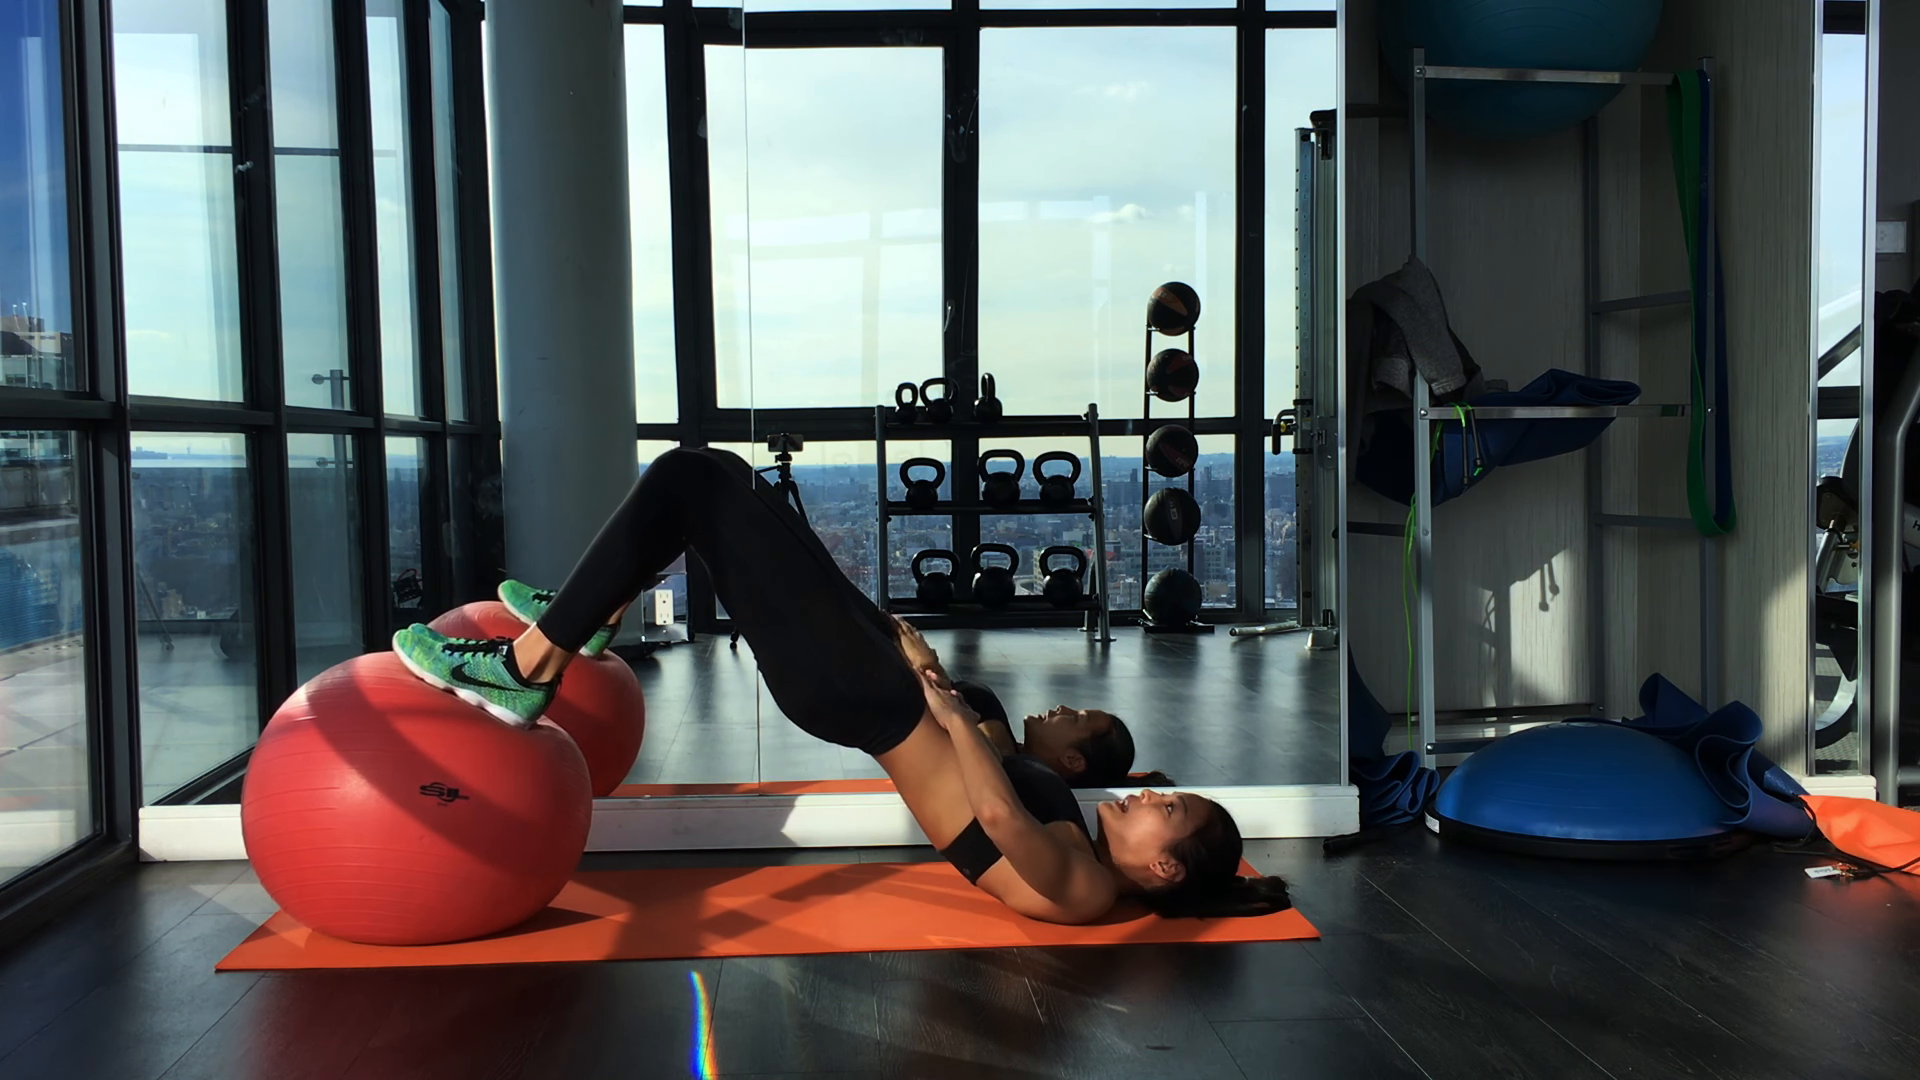yogaball: (219, 641, 607, 949)
